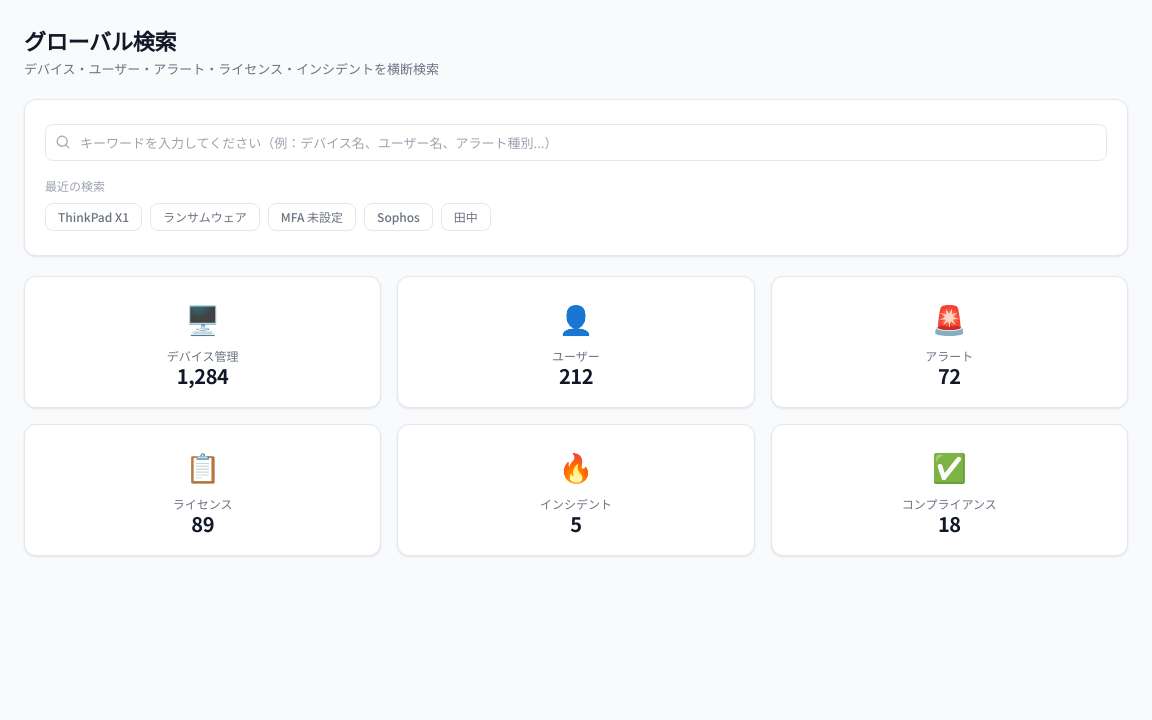
Test: Search page (static design-data driven) › finds incidents when query matches INC-2025-0042
In the field with placeholder "キーワードを入力してください（例：デバイス名、ユーザー名、アラート種別...）": (576, 142) [45, 124, 1107, 161], type "INC-2025"
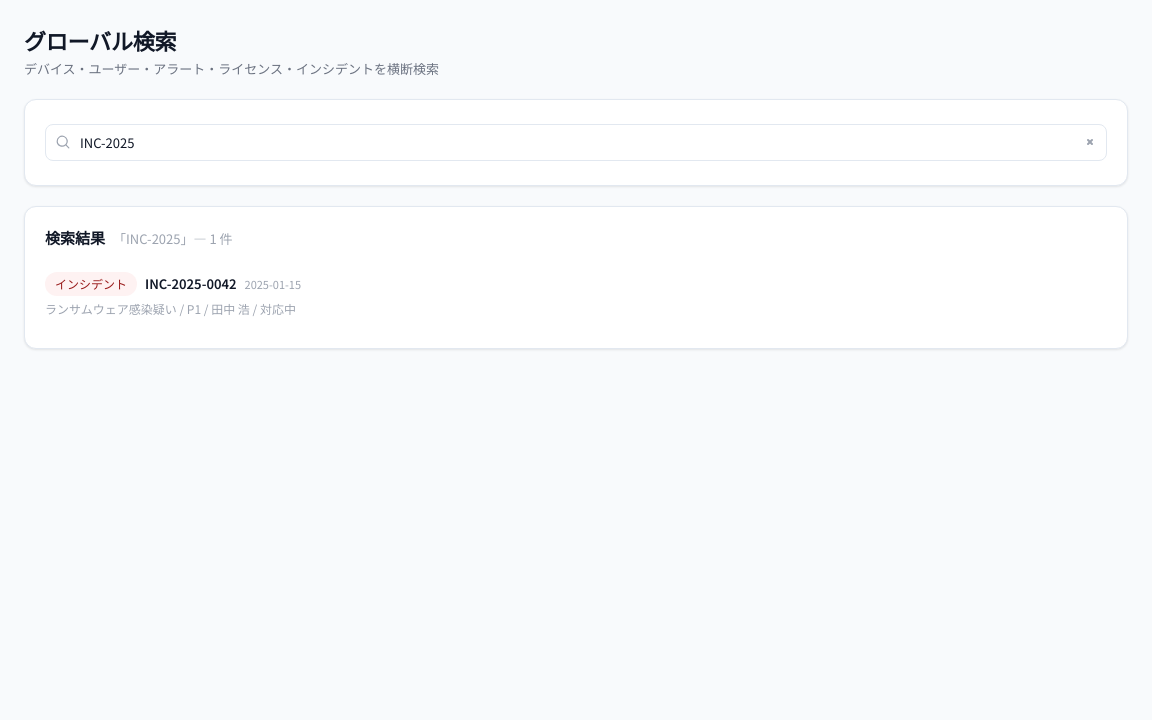
Result: the text "INC-2025-0042" is shown at [145, 274, 236, 292]
